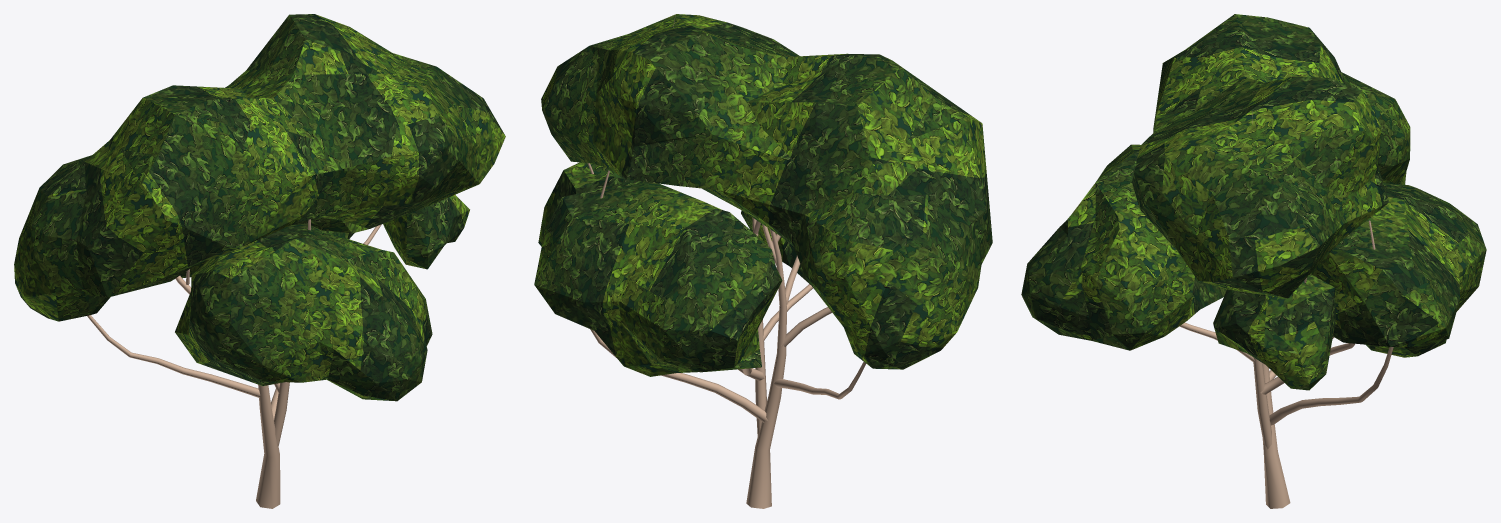
Rendered from tree-oak2-lowpoly.fbx.
3 renders of one model, left to right at view 1: azimuth 30°, elevation 25°; view 2: azimuth 150°, elevation 25°; view 3: azimuth 270°, elevation 25°, orthographic. The views are drawn at different scales.
Parts seen in each view (by area): view 1: tree.002, tree.001; view 2: tree.002, tree.001; view 3: tree.002, tree.001.
Boxes of the visible parts, bbox=[...] form: tree.002: bbox=[14, 14, 505, 401]; tree.001: bbox=[87, 51, 381, 508]; tree.002: bbox=[534, 14, 992, 376]; tree.001: bbox=[587, 16, 866, 508]; tree.002: bbox=[1021, 14, 1486, 390]; tree.001: bbox=[1179, 109, 1393, 508].
Size of the model in its own units: 1154 by 1150 by 1071.
2 materials, 1 textured.
